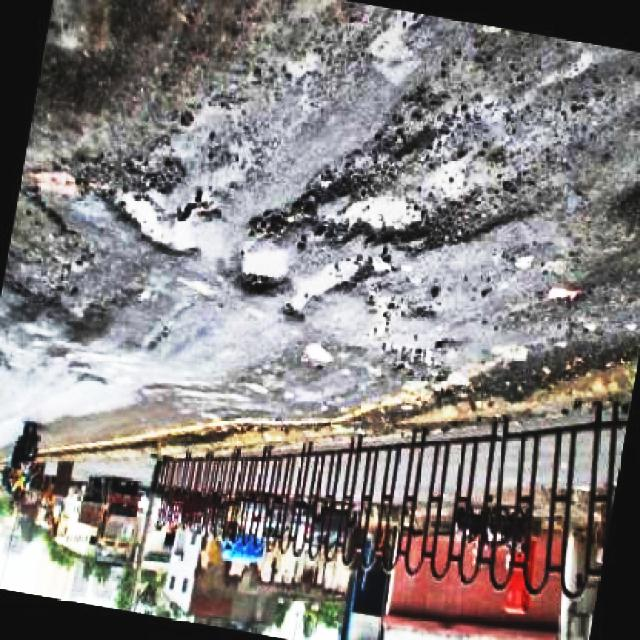pothole: (305, 188, 443, 248), (100, 185, 202, 257), (276, 257, 358, 309), (231, 244, 300, 296)
